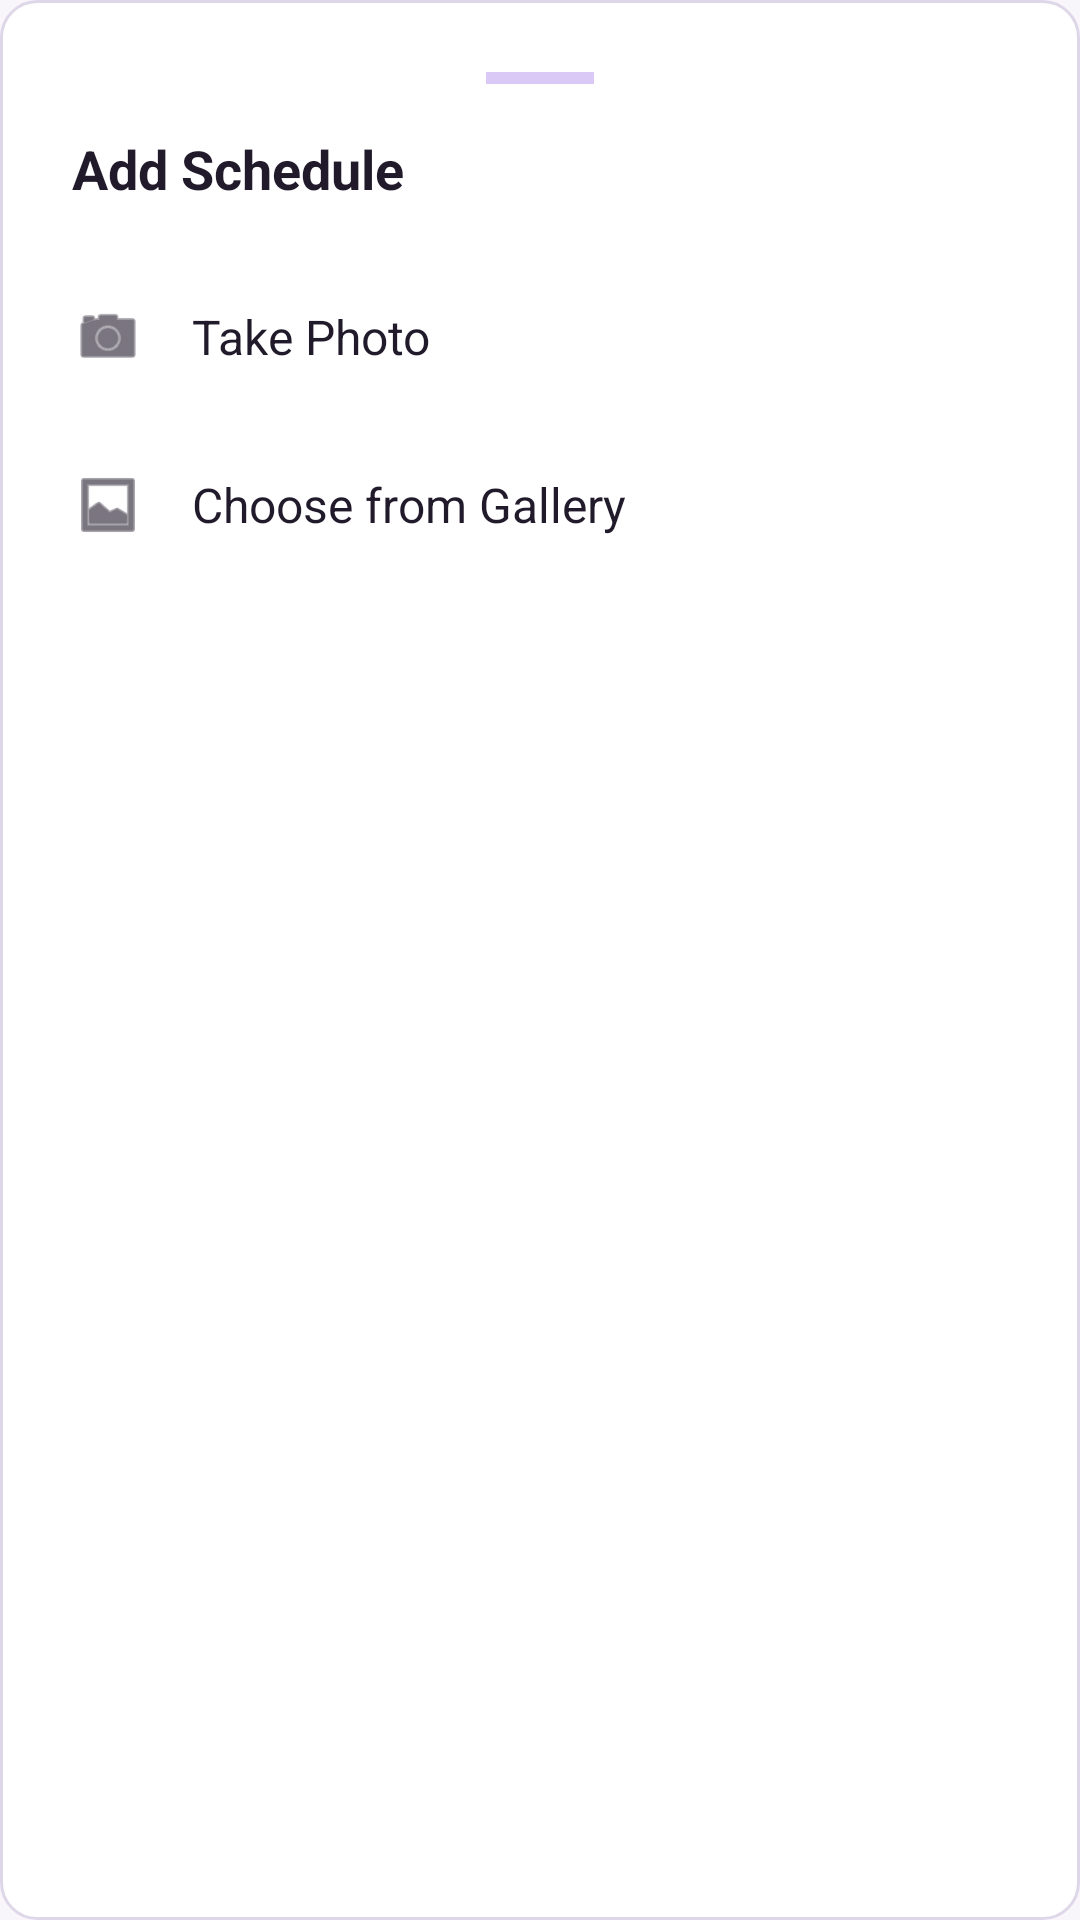

Screen size 1080 × 1920. Icon name, then its center in pixels as (x,y):
camera: (108,336)
